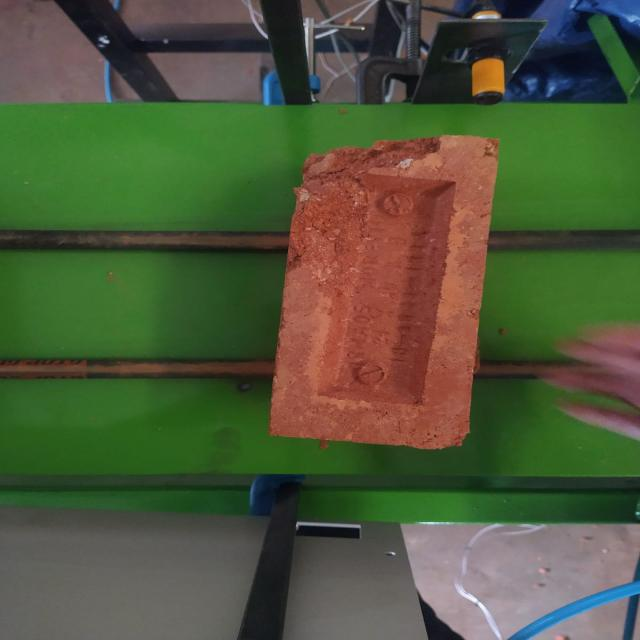bricks_ruin: (265, 137, 492, 449)
